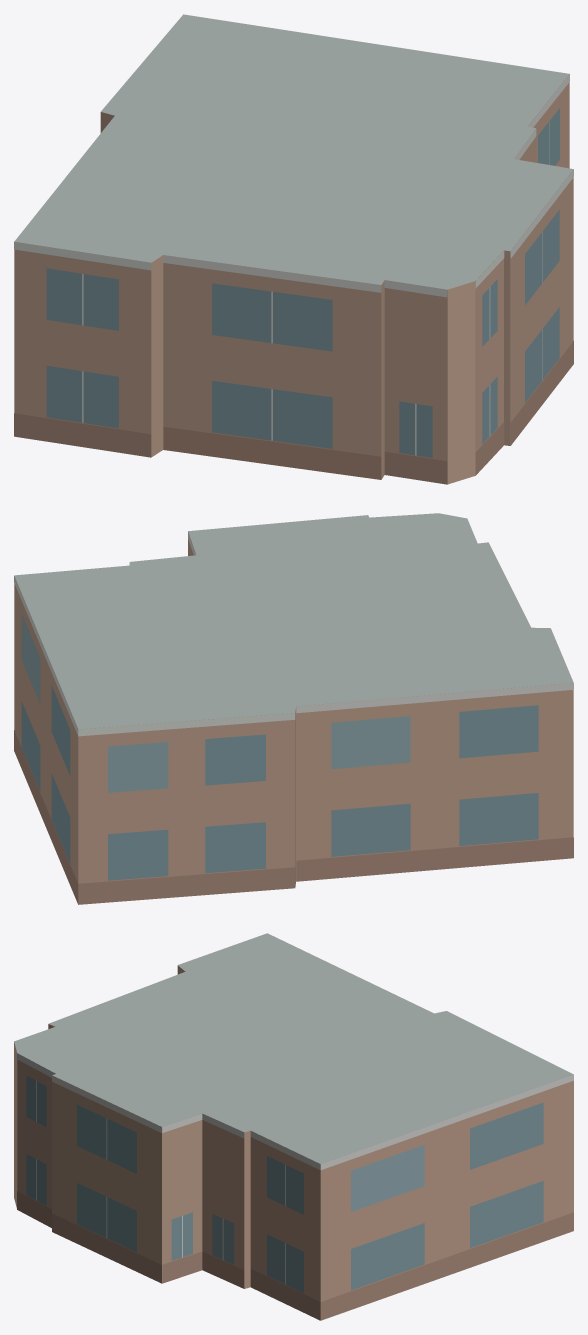
Rendered from survey-upis-32925653.glb.
3 renders of one model, top to bottom at view 1: azimuth 30°, elevation 25°; view 2: azimuth 150°, elevation 25°; view 3: azimuth 270°, elevation 25°, orthographic. The views are drawn at different scales.
Visible parts, largest first — view 1: survey-upis-32925653.tmp; view 2: survey-upis-32925653.tmp; view 3: survey-upis-32925653.tmp.
Part boxes in pixels (box(x1,y1,x2,y2)): survey-upis-32925653.tmp: box(14, 14, 573, 484); survey-upis-32925653.tmp: box(14, 513, 573, 904); survey-upis-32925653.tmp: box(14, 933, 573, 1320).
Size of the model in its own units: 19.3 by 6.1 by 19.77.
